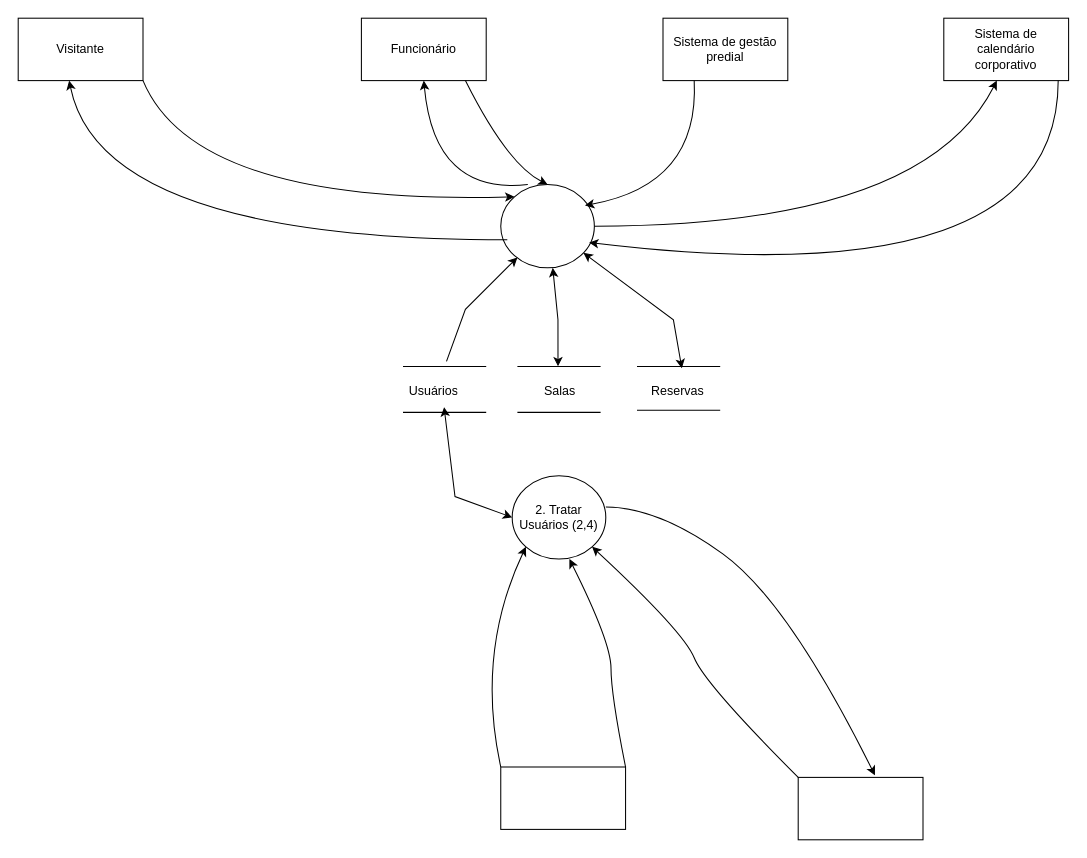
Image size: 1087x858. Some labels were removed from this diagram. Each missing label, with the box of its shape:
Gerente: (500, 766, 626, 829)
Sistema de autenticação de usuários: (797, 776, 923, 840)
Tratar Reservas (1,2,5,6): (500, 184, 594, 268)
